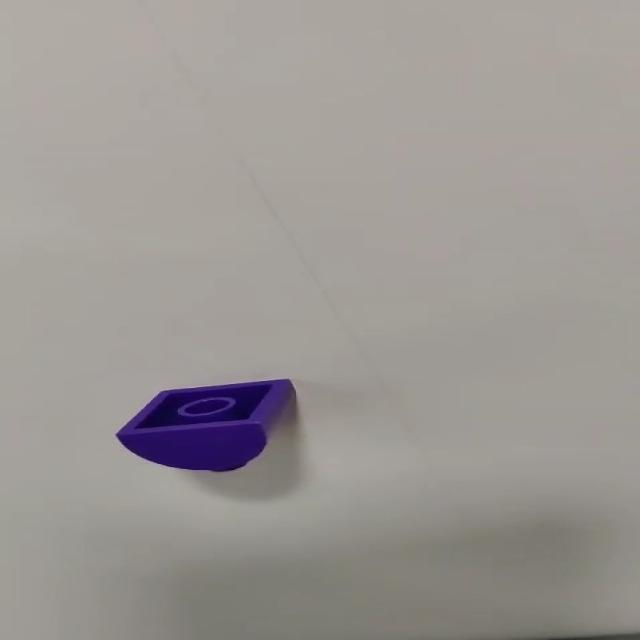H2x2x1: (112, 373, 300, 474)
